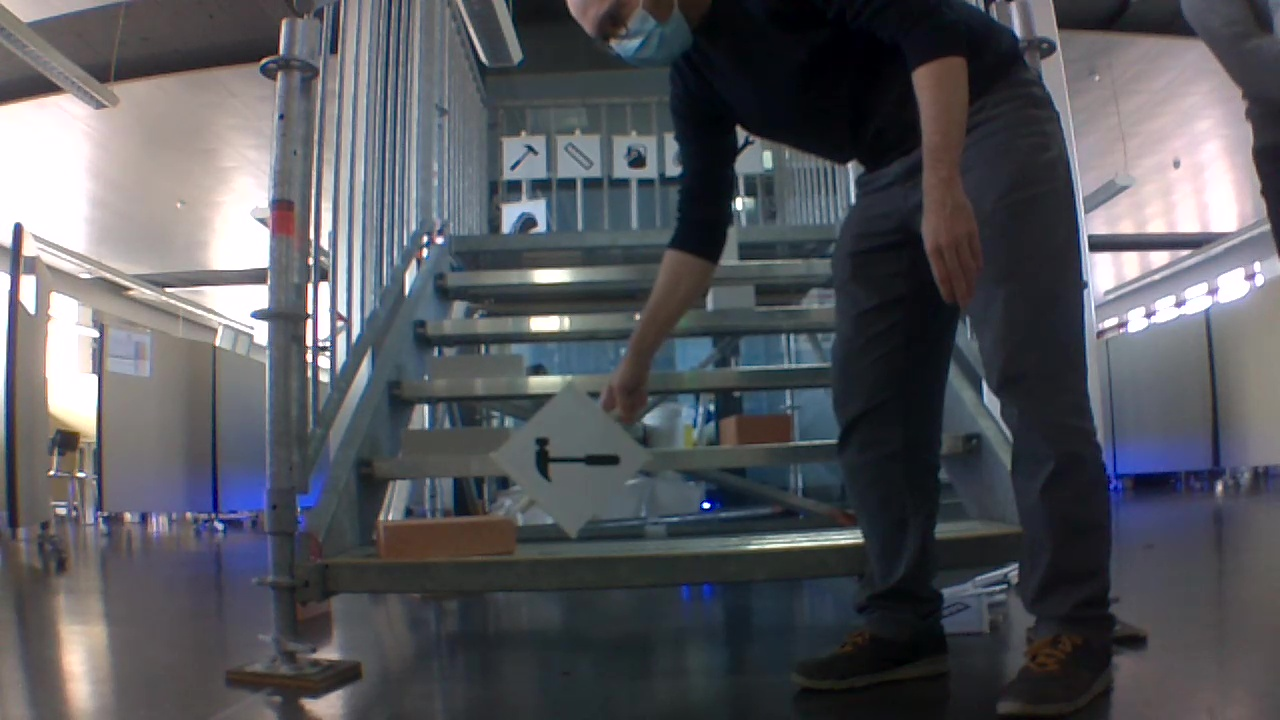brick: (376, 515, 515, 561), (401, 426, 513, 459), (426, 354, 524, 379), (719, 412, 791, 444), (706, 284, 754, 309)
bucket: (619, 140, 651, 172)
hammer: (529, 426, 624, 486), (505, 139, 543, 174)
ruler: (560, 140, 598, 173)
taco: (508, 209, 536, 234)
